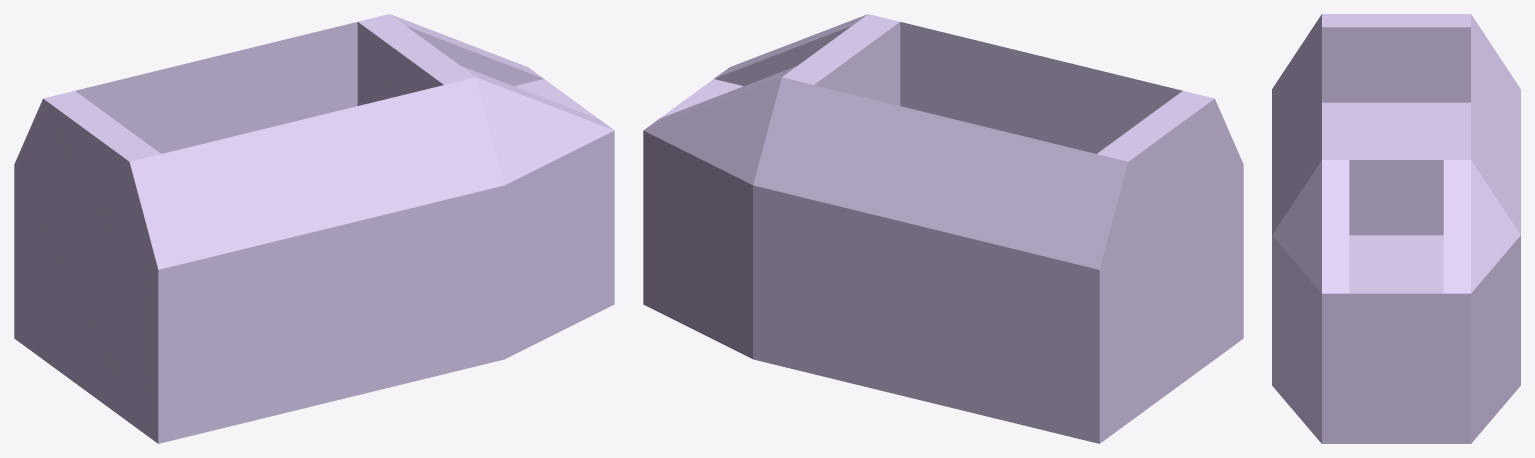
The picture shows the model from 3 angles, left to right: view 1: azimuth 30°, elevation 25°; view 2: azimuth 150°, elevation 25°; view 3: azimuth 270°, elevation 25°; orthographic projection. The views are drawn at different scales.
Parts seen in each view (by area): view 1: tmp_export_Cube.073; view 2: tmp_export_Cube.073; view 3: tmp_export_Cube.073.
Part boxes in pixels (box(x1,y1,x2,y2)): tmp_export_Cube.073: box(14, 14, 614, 443); tmp_export_Cube.073: box(643, 14, 1243, 443); tmp_export_Cube.073: box(1272, 14, 1520, 443).
Size of the model in its own units: 3.5 by 1.8 by 1.8.
